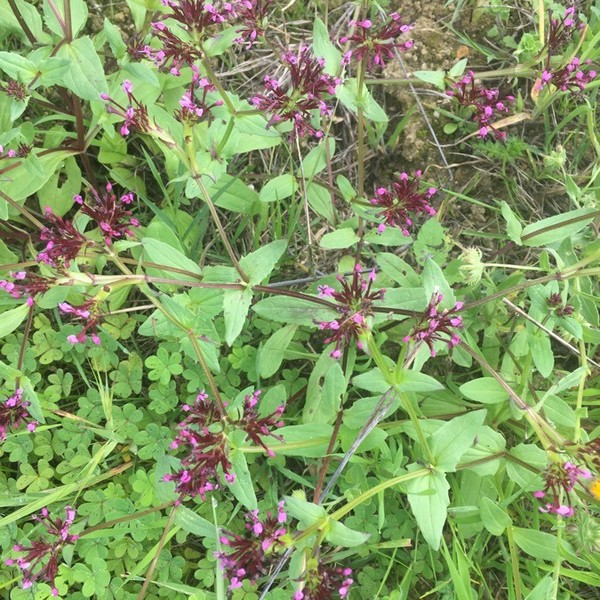obstacle: (88, 102, 498, 587)
